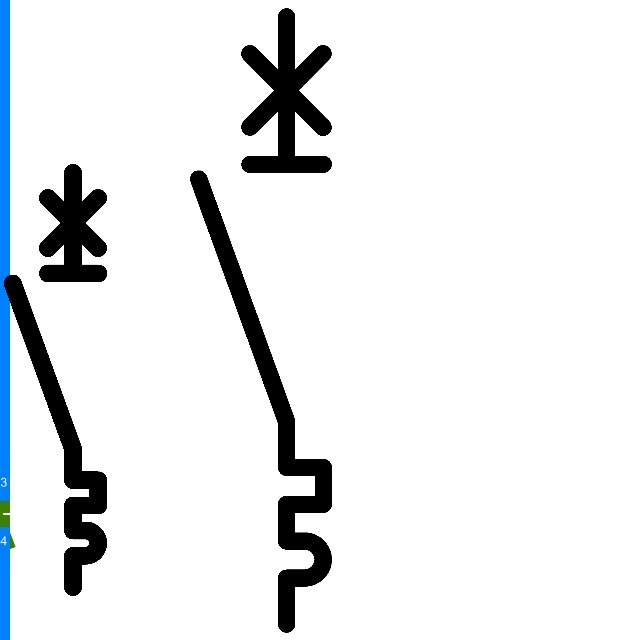interruptor_termomagnetico: (183, 1, 339, 640), (2, 162, 109, 598)
